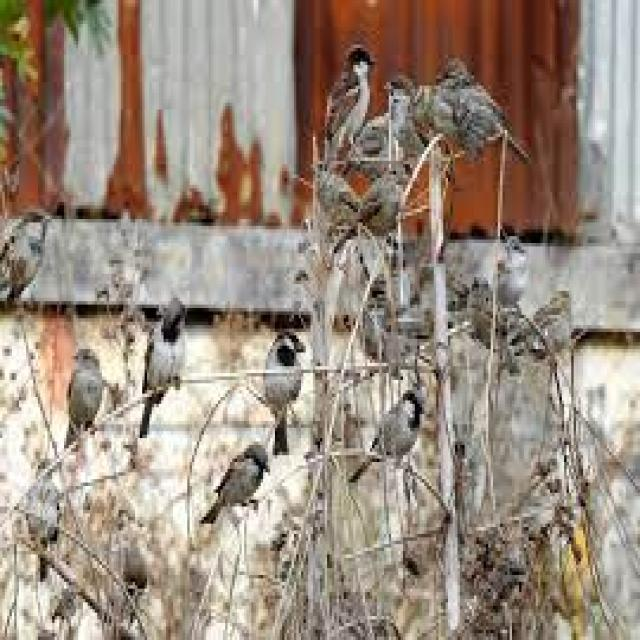bird: (137, 300, 189, 438), (346, 392, 423, 485), (318, 41, 369, 171), (258, 324, 302, 460), (203, 442, 265, 528), (63, 346, 103, 449)
